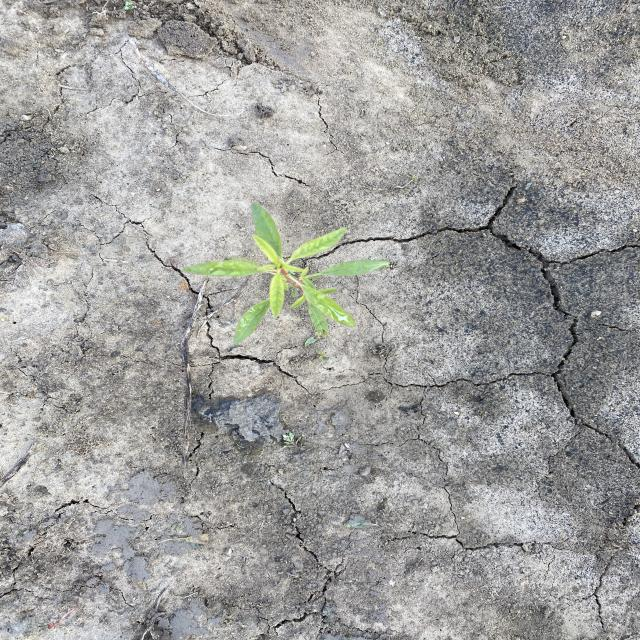Waterhemp: (178, 199, 394, 348)
